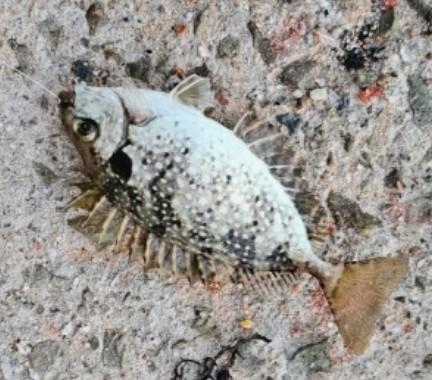fish: (59, 74, 407, 353)
